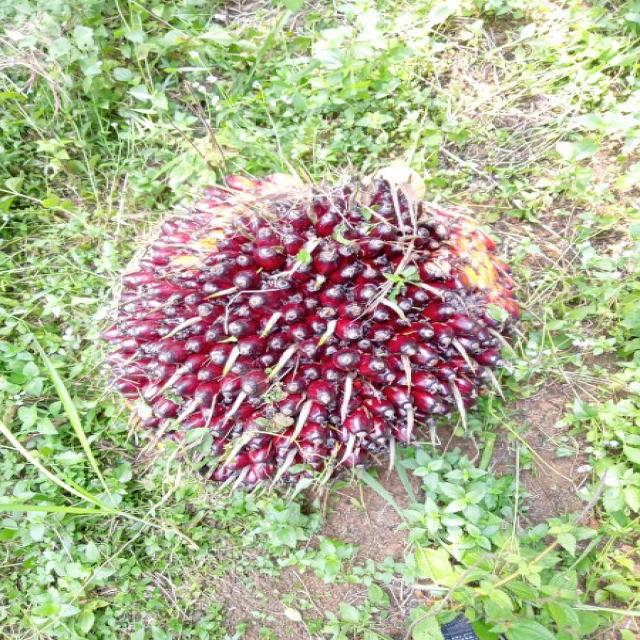fraksi 3: (85, 173, 528, 490)
